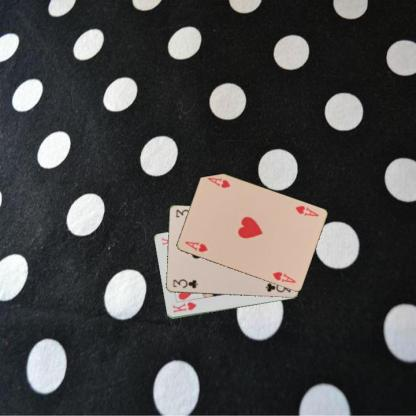3c: (170, 277, 199, 289)
Ah: (182, 238, 209, 254), (292, 203, 320, 218)
Kh: (170, 299, 197, 314)
